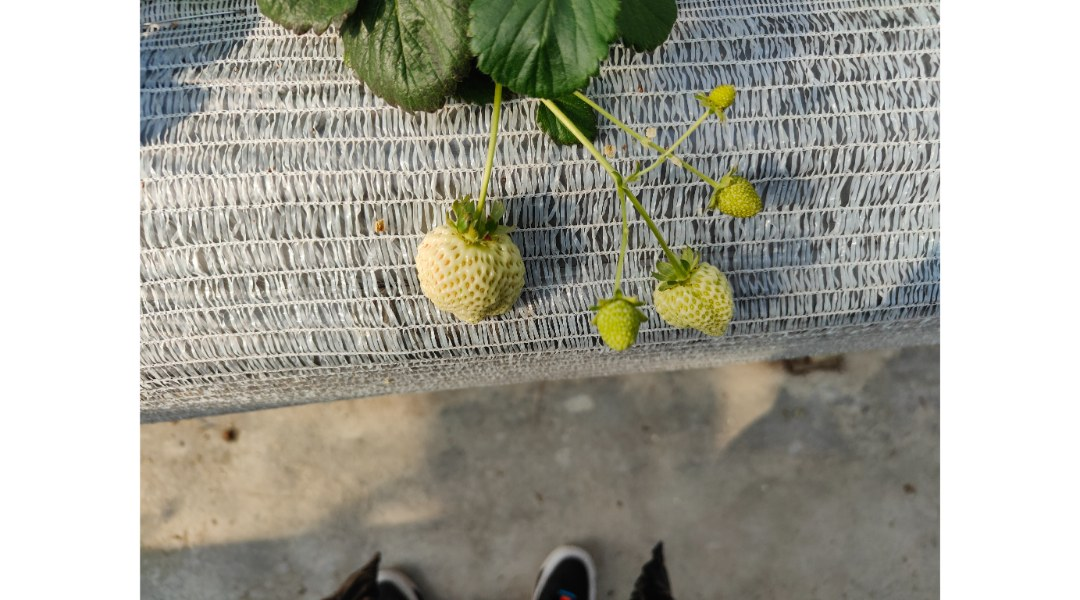berry: (405, 198, 530, 332), (652, 251, 749, 342), (586, 299, 642, 362), (710, 176, 763, 223), (698, 78, 739, 122)
strain: (530, 103, 618, 182), (581, 84, 654, 148), (632, 196, 685, 275), (642, 116, 703, 176), (478, 81, 497, 218), (612, 215, 638, 313)
